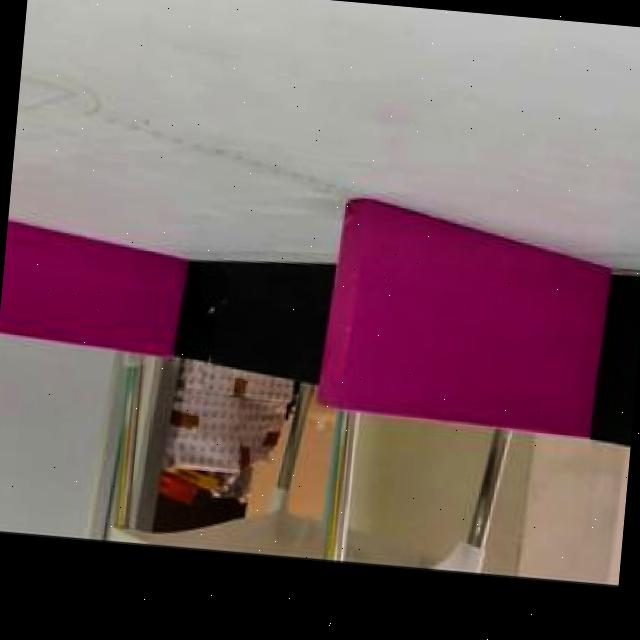xparking: (322, 212, 602, 424), (0, 231, 165, 347)
